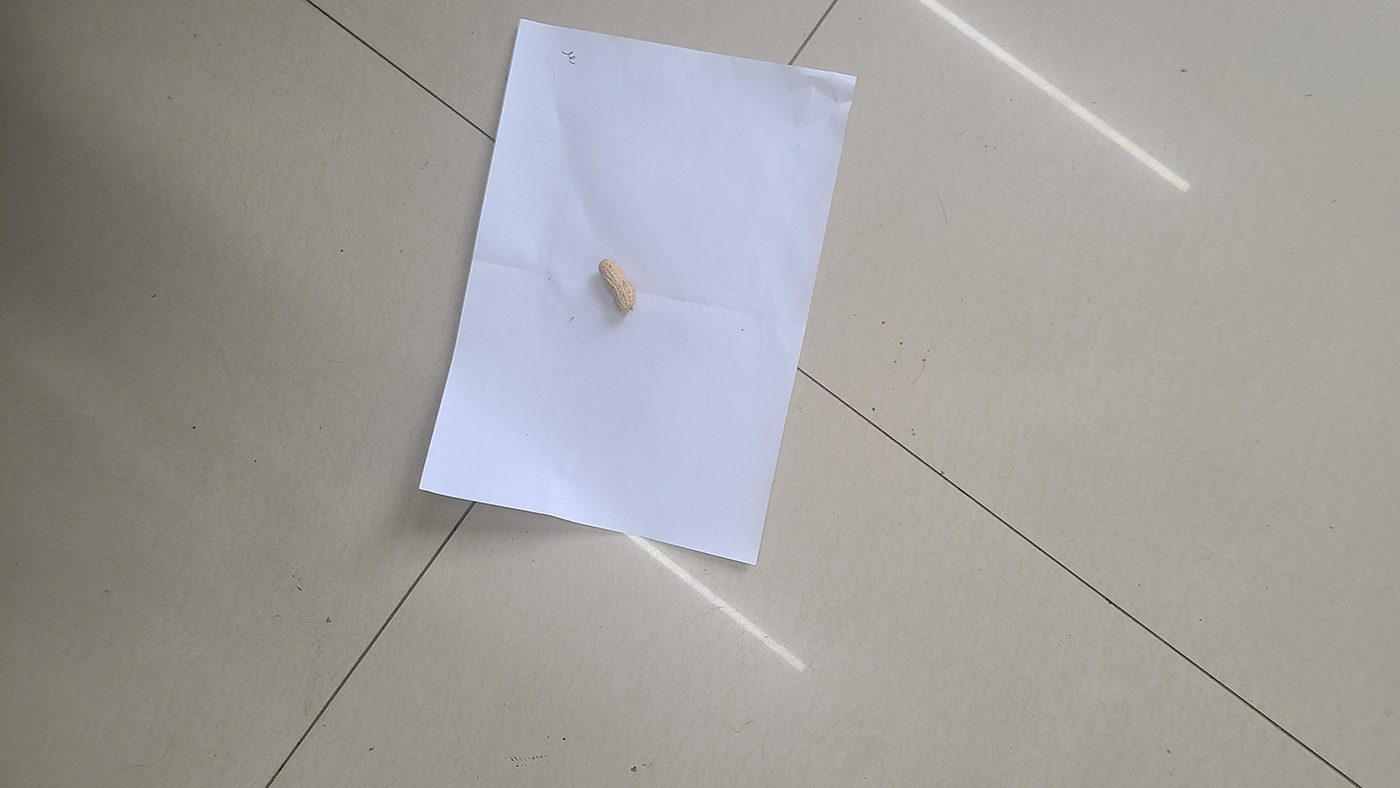h: (598, 258, 636, 312)
